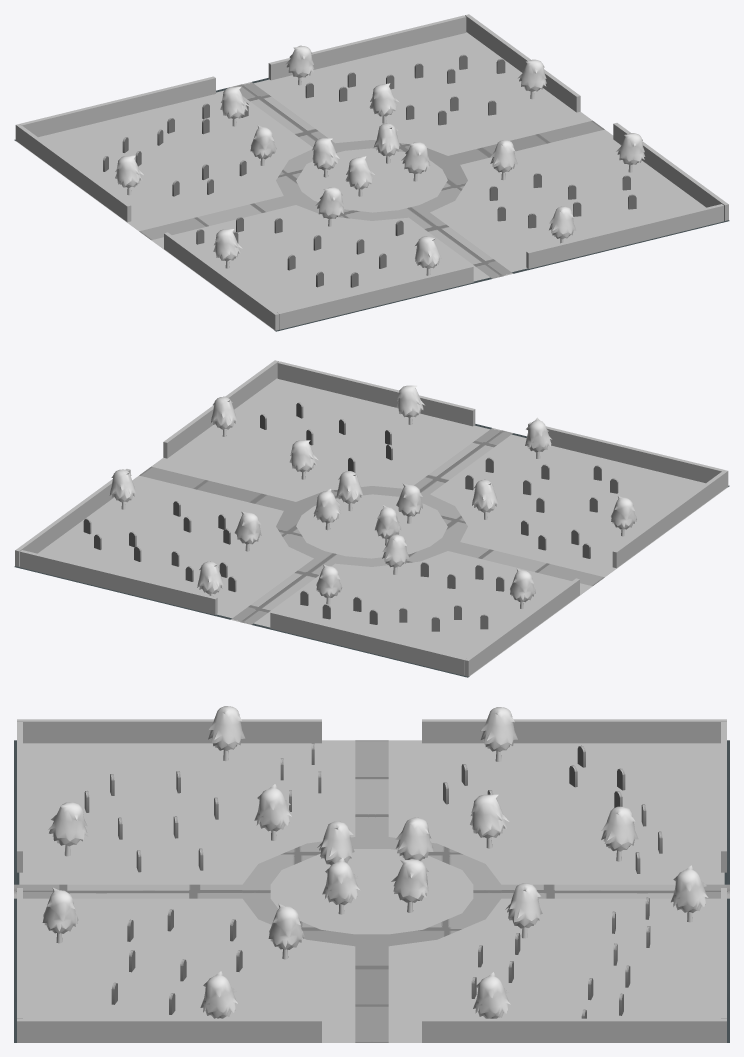
Rendered from tile_poi_cemetery_6x6_b.fbx.
The picture shows the model from 3 angles, top to bottom: view 1: azimuth 30°, elevation 25°; view 2: azimuth 150°, elevation 25°; view 3: azimuth 270°, elevation 25°; orthographic projection. The views are drawn at different scales.
Parts seen in each view (by area): view 1: tile_poi_cemetery_6x6_b; view 2: tile_poi_cemetery_6x6_b; view 3: tile_poi_cemetery_6x6_b.
Boxes of the visible parts, x1,y1,x2,y2 form: tile_poi_cemetery_6x6_b: (14, 14, 729, 331); tile_poi_cemetery_6x6_b: (14, 360, 729, 677); tile_poi_cemetery_6x6_b: (14, 706, 729, 1042).
Bounding box in the file's own units: 9600 × 766 × 9600.
